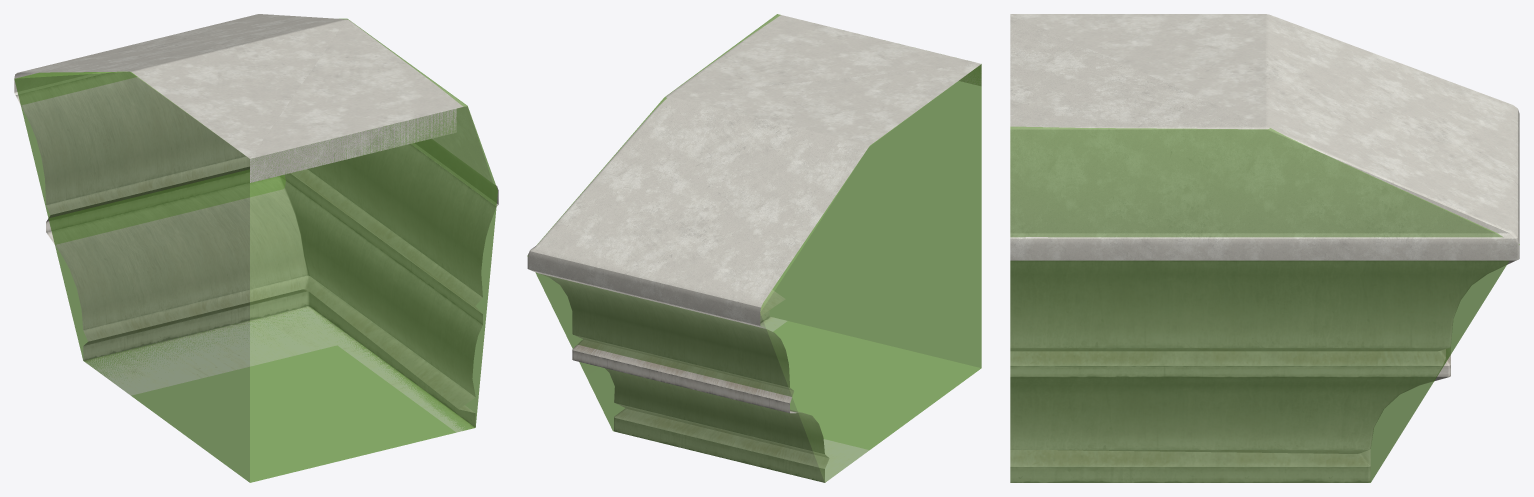
Rendered from F2_md_Roof_end_01.fbx.
The picture shows the model from 3 angles, left to right: view 1: azimuth 30°, elevation 25°; view 2: azimuth 150°, elevation 25°; view 3: azimuth 270°, elevation 25°; orthographic projection. The views are drawn at different scales.
Visible parts, largest first — view 1: F2_md_roof_end_01_LOD0, F2_md_roof_end_01_col_01; view 2: F2_md_roof_end_01_LOD0, F2_md_roof_end_01_col_01; view 3: F2_md_roof_end_01_LOD0, F2_md_roof_end_01_col_01.
Part boxes in pixels (x1=…): F2_md_roof_end_01_LOD0: x1=14, y1=14, x2=498, y2=432; F2_md_roof_end_01_col_01: x1=14, y1=18, x2=497, y2=482; F2_md_roof_end_01_LOD0: x1=527, y1=14, x2=981, y2=482; F2_md_roof_end_01_col_01: x1=527, y1=14, x2=981, y2=482; F2_md_roof_end_01_LOD0: x1=1010, y1=14, x2=1519, y2=482; F2_md_roof_end_01_col_01: x1=1010, y1=126, x2=1519, y2=482.
Size of what is drawn, in the model's own units: 120 by 150 by 198.
